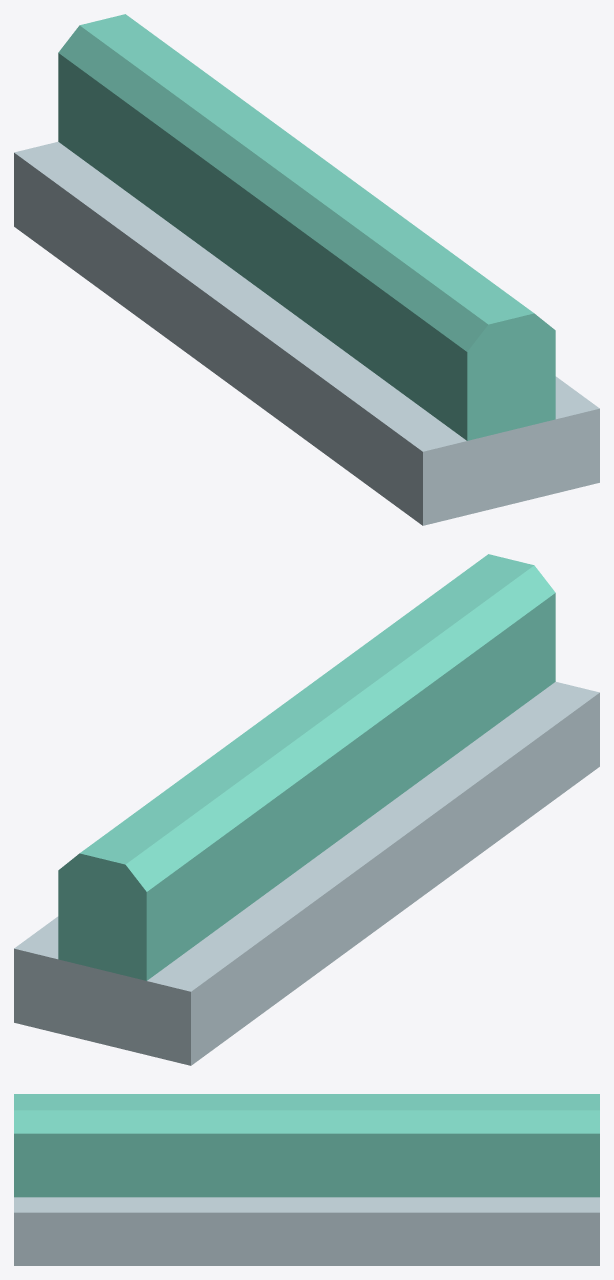
The model's file is hedge.glb.
3 views of the same model, one above another, from view 1: azimuth 30°, elevation 25°; view 2: azimuth 150°, elevation 25°; view 3: azimuth 270°, elevation 25° (orthographic). The views are drawn at different scales.
Visible parts, largest first — view 1: hedge; view 2: hedge; view 3: hedge.
Part boxes in pixels (bbox=[...]): hedge: bbox=[14, 14, 599, 525]; hedge: bbox=[14, 554, 599, 1065]; hedge: bbox=[14, 1094, 599, 1265].
Bounding box in the file's own units: 0.25 × 0.25 × 1.
